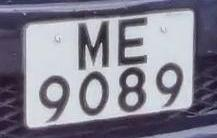0: (74, 68, 115, 122)
8: (114, 63, 151, 117)
9: (32, 65, 76, 129), (150, 58, 187, 116)
E: (113, 13, 157, 68)
M: (71, 16, 115, 73)
